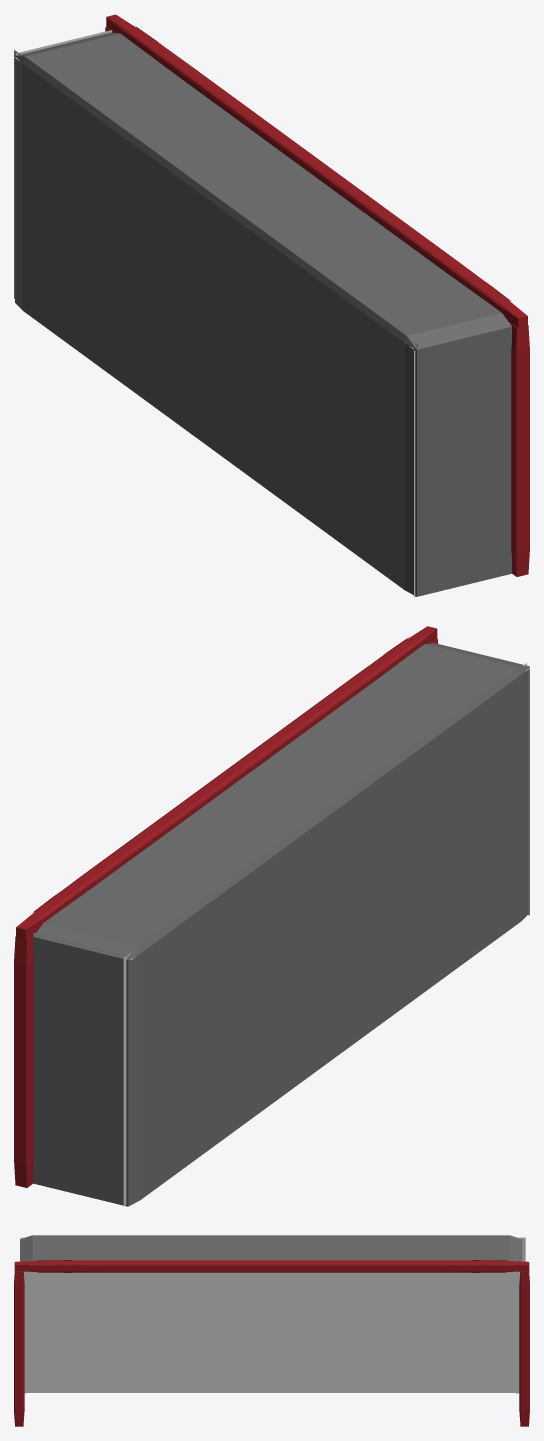
File: goal2.fbx
3 renders of one model, top to bottom at view 1: azimuth 30°, elevation 25°; view 2: azimuth 150°, elevation 25°; view 3: azimuth 270°, elevation 25°, orthographic. The views are drawn at different scales.
Parts seen in each view (by area): view 1: Cube, Cube.003, Cube.001; view 2: Cube, Cube.003, Cube.002, Plane.003; view 3: Plane.003, Cube, Cube.003, Cube.002, Cube.001.
Part boxes in pixels (<box>): Cube: <box>15,32,511,596</box>; Cube.003: <box>106,14,527,328</box>; Cube.001: <box>510,323,529,576</box>; Cube: <box>33,643,529,1206</box>; Cube.003: <box>16,626,437,939</box>; Cube.002: <box>14,935,33,1187</box>; Plane.003: <box>123,663,526,1206</box>; Plane.003: <box>21,1237,525,1392</box>; Cube: <box>20,1235,522,1393</box>; Cube.003: <box>14,1260,529,1272</box>; Cube.002: <box>519,1271,529,1426</box>; Cube.001: <box>14,1271,24,1426</box>.
Bounding box in the file's own units: 229 × 513 × 1467.
